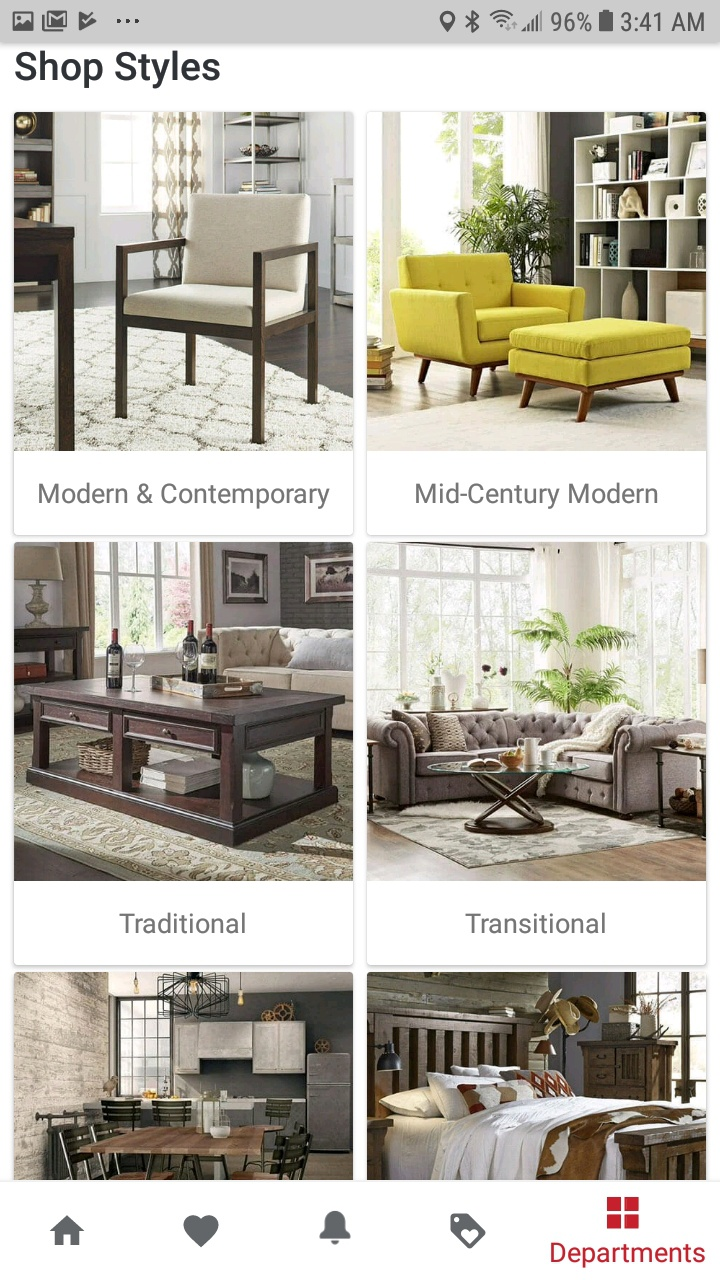Icon: (450, 1212, 487, 1249), (184, 1214, 220, 1248), (319, 1210, 352, 1245), (606, 1196, 640, 1229), (50, 1215, 85, 1246)
Image: (13, 111, 354, 451), (366, 542, 706, 881), (15, 542, 354, 882), (367, 112, 706, 451), (367, 972, 707, 1180), (14, 972, 354, 1180)
Text: (15, 50, 221, 90), (39, 482, 331, 510), (416, 482, 658, 510), (551, 1241, 706, 1269), (465, 913, 606, 934), (119, 912, 246, 935)
UpperTaskBar: (1, 1, 720, 43)
